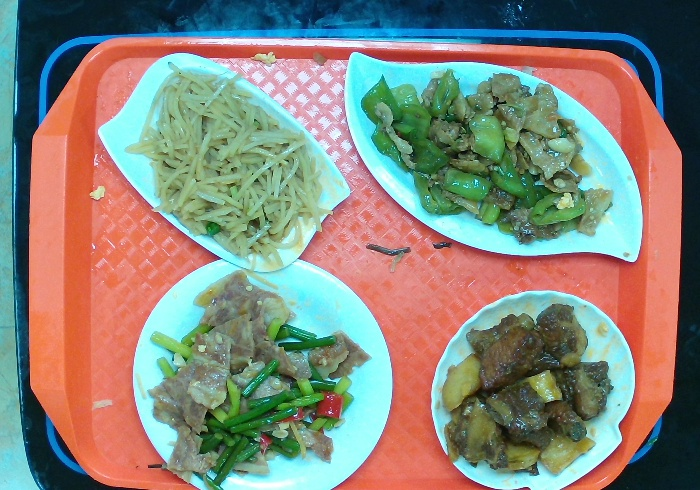RJxy-Bei_Ke_Wan: (429, 287, 638, 490)
RJxy-Jian_Jiao_Fang_Die: (96, 50, 352, 274)
RJxy-Jian_Jiao_Pan: (341, 50, 645, 264)
RJxy-Yuan_Pan: (131, 255, 394, 490)
